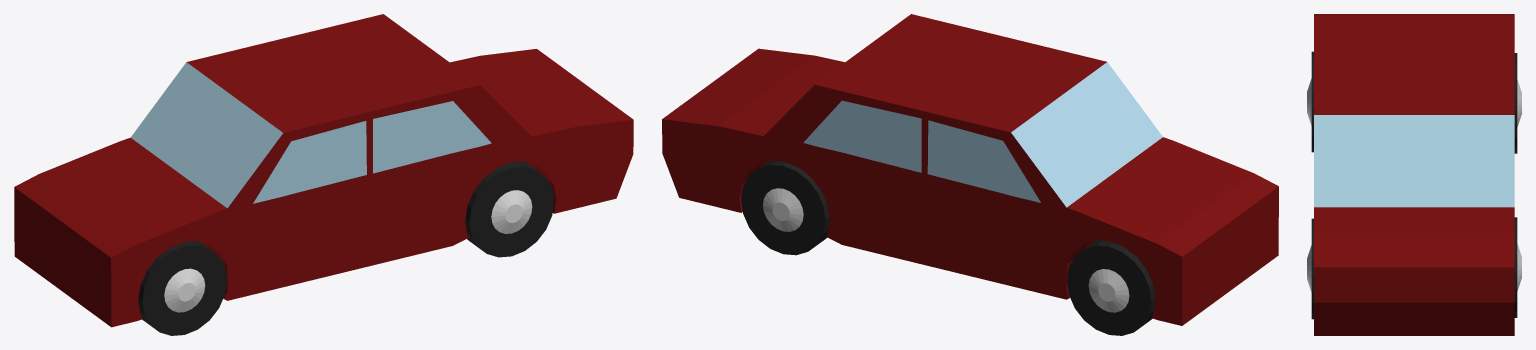
The model's file is bolid_lada.fbx.
3 views of the same model, side by side, from view 1: azimuth 30°, elevation 25°; view 2: azimuth 150°, elevation 25°; view 3: azimuth 270°, elevation 25° (orthographic). The views are drawn at different scales.
Visible parts, largest first — view 1: bolid, wheel2, wheel3; view 2: bolid, wheel, wheel1; view 3: bolid, wheel, wheel1, wheel2, wheel3.
Part boxes in pixels (bbox=[...]): bolid: bbox=[14, 14, 633, 327]; wheel2: bbox=[465, 161, 554, 257]; wheel3: bbox=[138, 241, 226, 335]; bolid: bbox=[662, 14, 1278, 325]; wheel: bbox=[1067, 240, 1155, 335]; wheel1: bbox=[741, 160, 829, 255]; bolid: bbox=[1314, 14, 1514, 335]; wheel: bbox=[1514, 53, 1521, 153]; wheel1: bbox=[1514, 217, 1521, 317]; wheel2: bbox=[1307, 218, 1313, 319]; wheel3: bbox=[1307, 51, 1313, 152].
Size of the model in its own units: 479 by 156 by 165.
